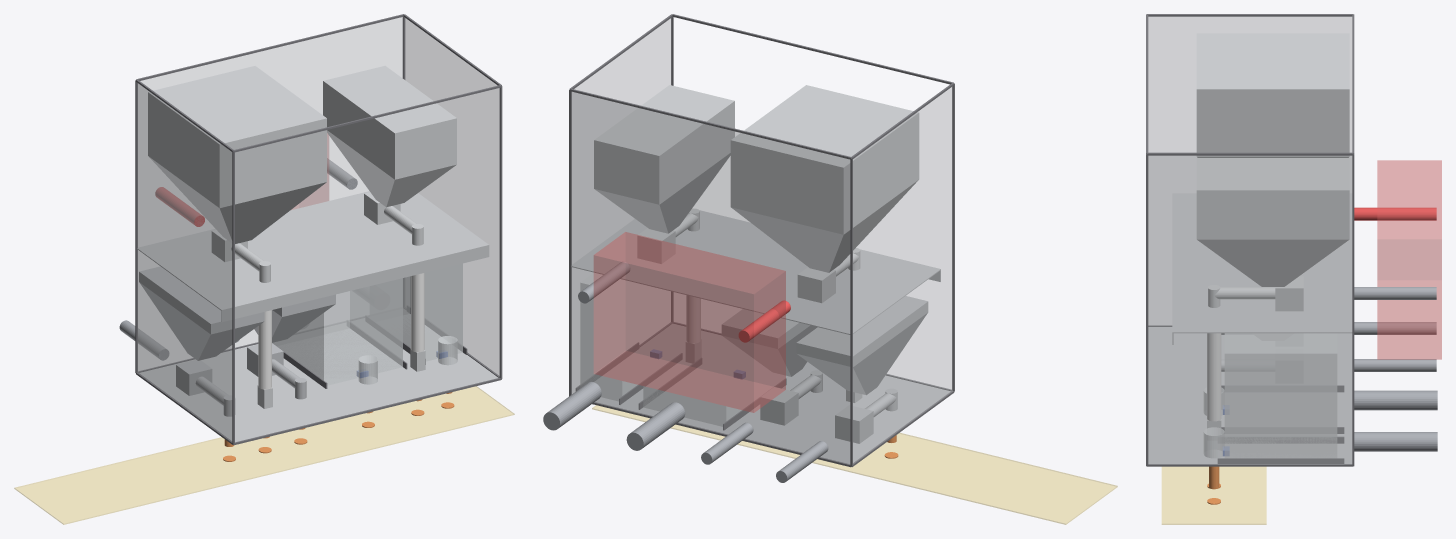
The model's file is uno_deneme_A_v1.glb.
3 renders of one model, left to right at view 1: azimuth 30°, elevation 25°; view 2: azimuth 150°, elevation 25°; view 3: azimuth 270°, elevation 25°, orthographic. The views are drawn at different scales.
Parts seen in each view (by area): view 1: sol_duvar_13, tabla_yolu_18, ust_raf_16, harc_BUYUK_kutu_53, alt_taban_raf_15, arka_duvar_12, sag_duvar_14, sos_KUCUK_kutu_63, kasar_govde_36, sucuk_govde_44, harc_BUYUK_huni_52, ust_raf_on_bukum_17 (+17 smaller); view 2: arka_duvar_12, sol_duvar_13, evap_kaseti_zarfi_19, harc_BUYUK_kutu_53, ust_raf_16, alt_taban_raf_15, tabla_yolu_18, sos_KUCUK_kutu_63, sag_duvar_14, harc_BUYUK_huni_52, kiyma_kutu_21, sos_KUCUK_huni_62 (+22 smaller); view 3: sag_duvar_14, harc_BUYUK_kutu_53, sol_duvar_13, sucuk_govde_44, sos_KUCUK_kutu_63, ust_raf_16, evap_kaseti_zarfi_19, alt_taban_raf_15, tabla_yolu_18, sos_KUCUK_huni_62, kasar_motor_41, sucuk_motor_49 (+17 smaller).
Boxes of the visible parts, bbox=[...] form: sol_duvar_13: bbox=[137, 83, 231, 441]; tabla_yolu_18: bbox=[14, 386, 514, 524]; ust_raf_16: bbox=[137, 191, 489, 310]; harc_BUYUK_kutu_53: bbox=[148, 66, 326, 207]; alt_taban_raf_15: bbox=[139, 309, 498, 442]; arka_duvar_12: bbox=[138, 17, 402, 371]; sag_duvar_14: bbox=[405, 18, 499, 375]; sos_KUCUK_kutu_63: bbox=[323, 65, 456, 179]; kasar_govde_36: bbox=[272, 278, 402, 385]; sucuk_govde_44: bbox=[403, 263, 462, 361]; harc_BUYUK_huni_52: bbox=[149, 157, 326, 243]; ust_raf_on_bukum_17: bbox=[221, 246, 489, 321]; arka_duvar_12: bbox=[571, 92, 849, 464]; sol_duvar_13: bbox=[853, 86, 953, 463]; evap_kaseti_zarfi_19: bbox=[593, 232, 785, 412]; harc_BUYUK_kutu_53: bbox=[730, 85, 919, 234]; ust_raf_16: bbox=[571, 210, 940, 334]; alt_taban_raf_15: bbox=[595, 324, 950, 463]; tabla_yolu_18: bbox=[592, 405, 1117, 524]; sos_KUCUK_kutu_63: bbox=[594, 85, 734, 204]; sag_duvar_14: bbox=[572, 18, 671, 393]; harc_BUYUK_huni_52: bbox=[731, 181, 917, 272]; kiyma_kutu_21: bbox=[796, 296, 928, 366]; sos_KUCUK_huni_62: bbox=[595, 153, 730, 233]; sag_duvar_14: bbox=[1148, 156, 1351, 464]; harc_BUYUK_kutu_53: bbox=[1196, 33, 1349, 156]; sol_duvar_13: bbox=[1148, 17, 1351, 324]; sucuk_govde_44: bbox=[1224, 333, 1337, 458]; sos_KUCUK_kutu_63: bbox=[1196, 158, 1349, 239]; ust_raf_16: bbox=[1172, 193, 1352, 333]; evap_kaseti_zarfi_19: bbox=[1377, 160, 1441, 359]; alt_taban_raf_15: bbox=[1148, 327, 1352, 463]; tabla_yolu_18: bbox=[1161, 466, 1266, 524]; sos_KUCUK_huni_62: bbox=[1197, 239, 1348, 286]; kasar_motor_41: bbox=[1354, 390, 1437, 410]; sucuk_motor_49: bbox=[1354, 432, 1437, 451].
Size of the model in its own units: 1.59 by 1.15 by 0.852.
